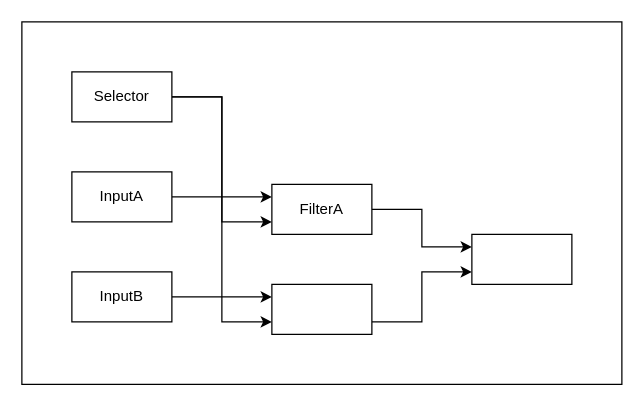
Some shapes in this 644 by 406 pixel diagram are drawn without their labels. Here are the shapes that lost their labels. From the top down, the centre of each, then its label:
At [521,258]: "Multiplexer".
At [321,308]: "FilterB".
